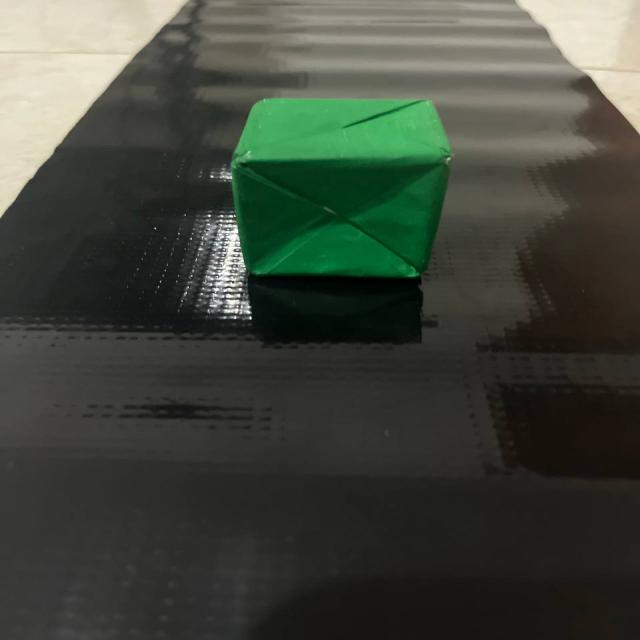Verde: (215, 86, 469, 299)
